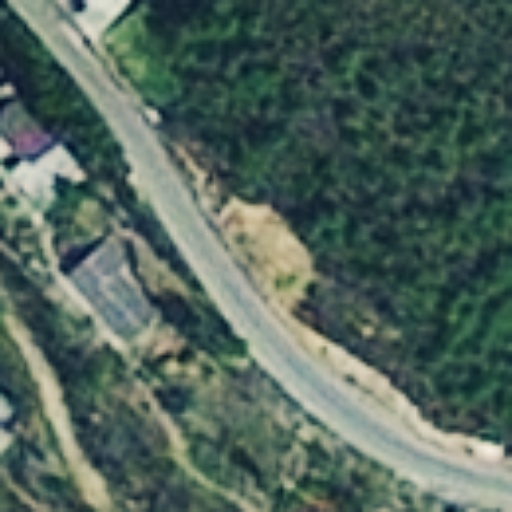landslide: (219, 198, 312, 306)
